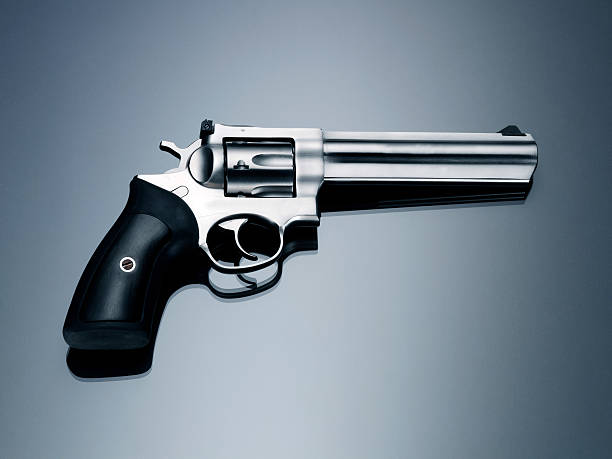pistol: (61, 119, 544, 360)
